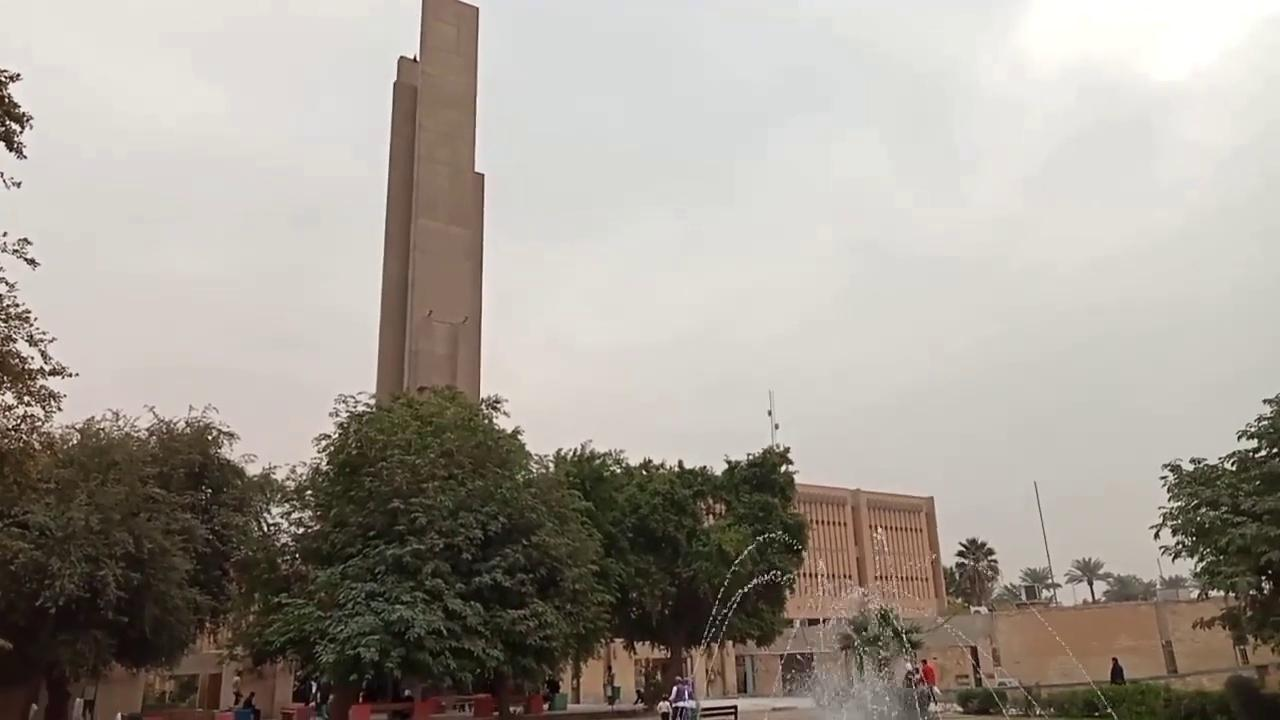fountain: (674, 529, 1118, 720)
person: (668, 675, 688, 719), (544, 672, 560, 709), (1109, 656, 1126, 685), (231, 669, 244, 706), (656, 693, 672, 719), (241, 691, 256, 709)
tree: (0, 66, 277, 717), (249, 382, 611, 716), (1, 401, 273, 718), (593, 444, 791, 706), (1148, 391, 1279, 667), (0, 66, 78, 506), (536, 440, 642, 705), (944, 535, 1000, 687), (833, 600, 926, 684), (948, 535, 1000, 607), (1063, 555, 1112, 602), (1018, 565, 1057, 601), (1103, 571, 1147, 601)
